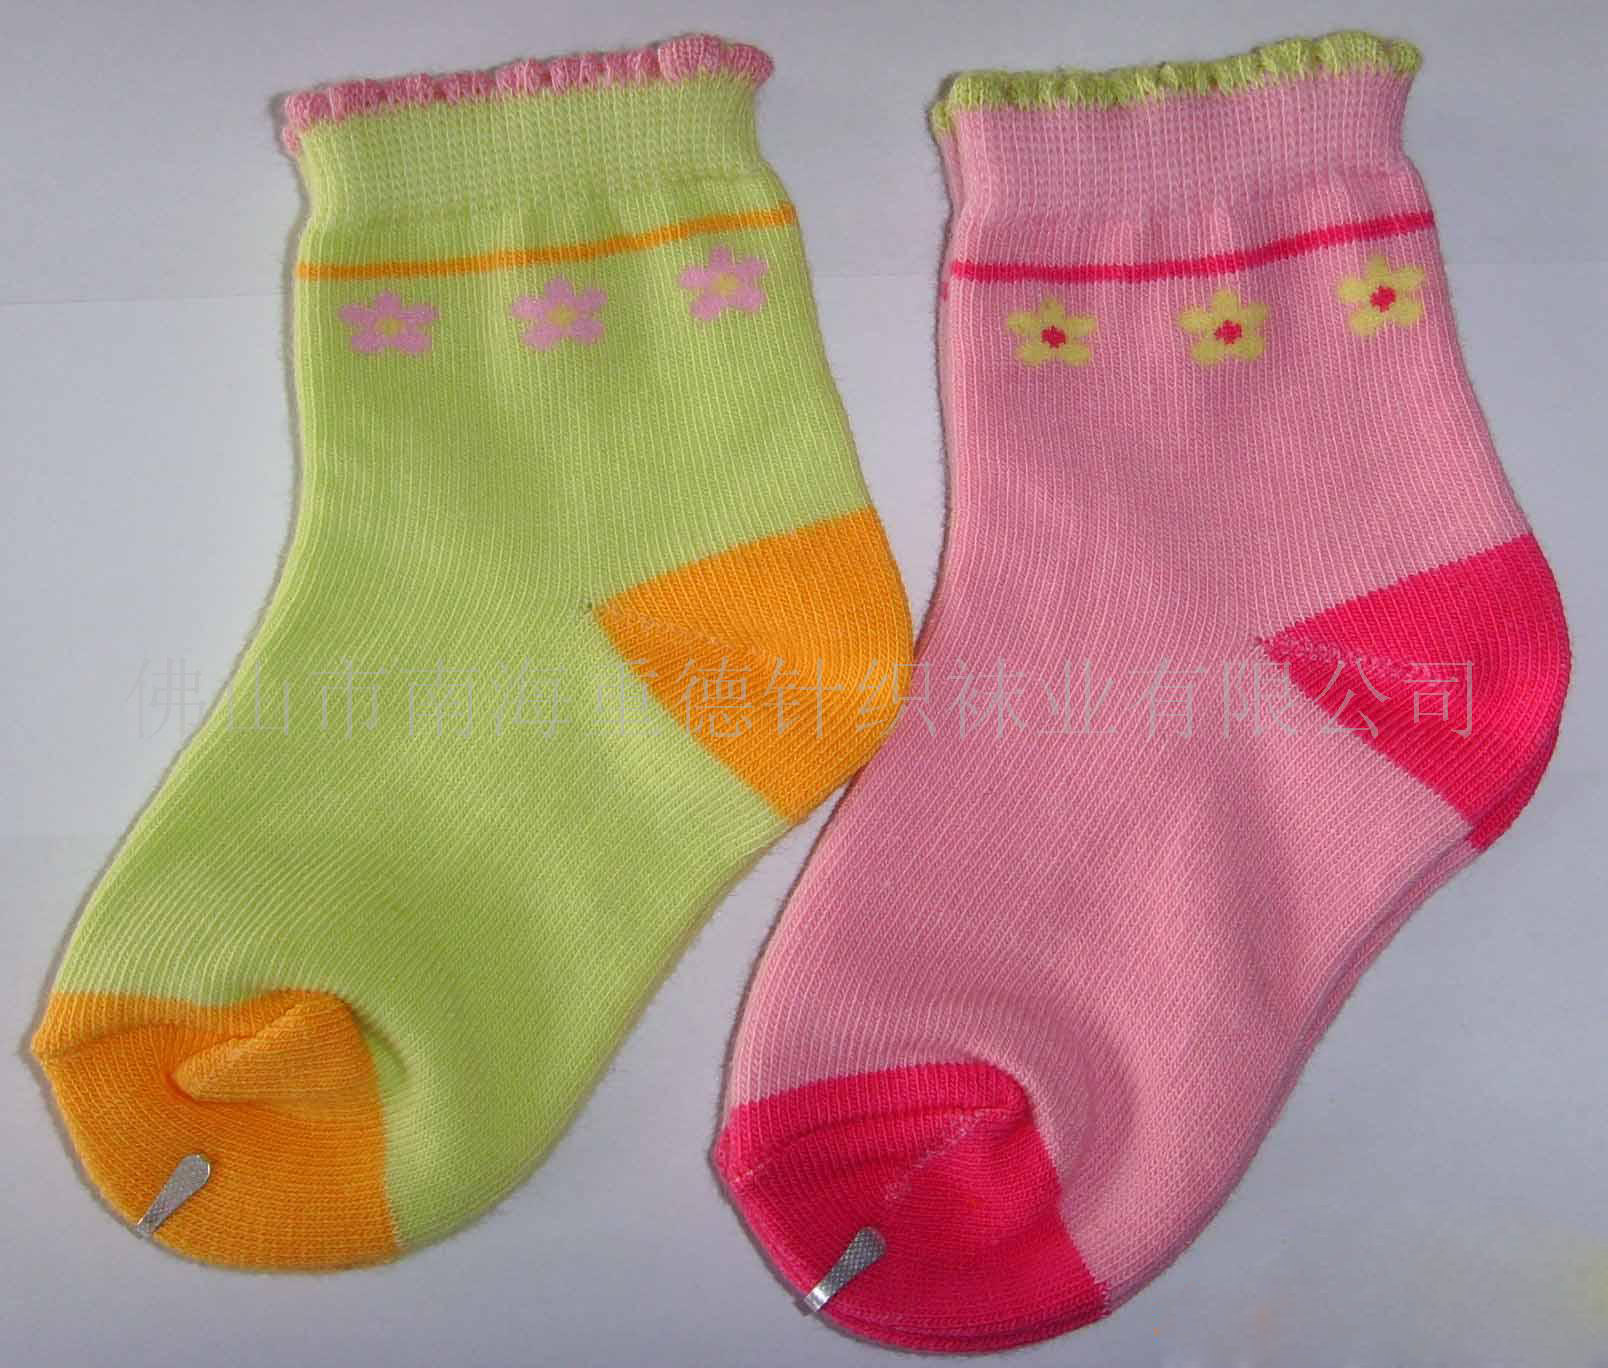flexible: (723, 20, 1584, 1350), (31, 35, 920, 1268)
